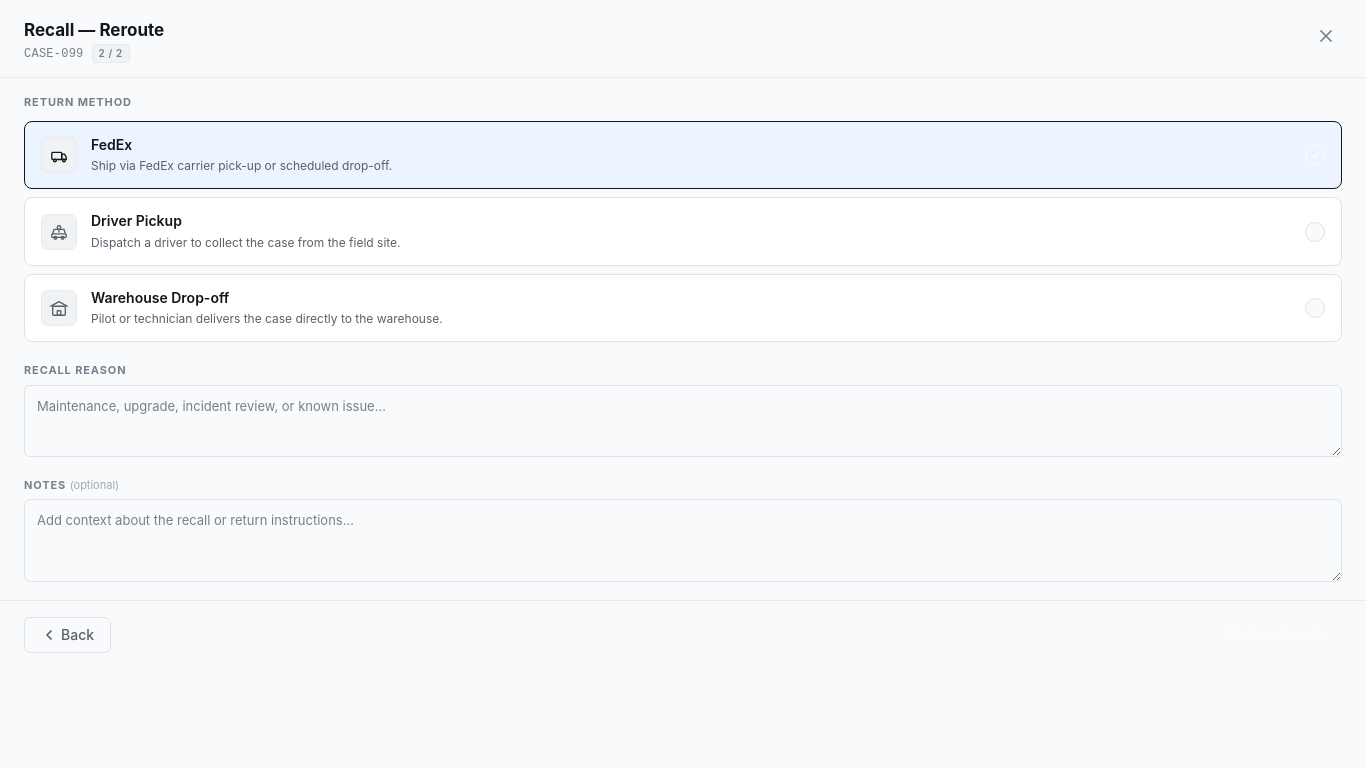
RecallModalStep2Reroute — Step 2 (Reroute) › return method selection › selecting Driver Pickup deselects FedEx
Click the radio button with test id "recall-method-radio-driver_pickup" at (59, 232), box [41,212,1325,250]
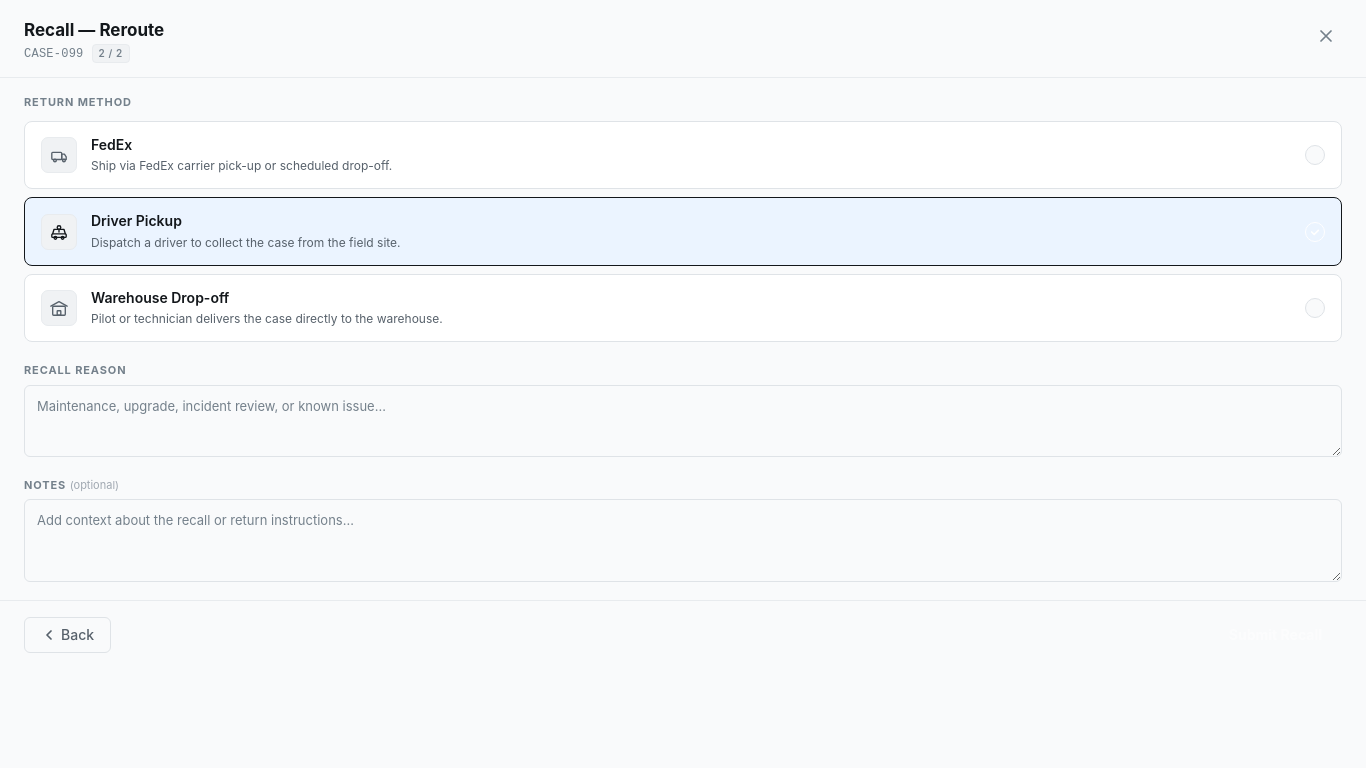
Result: the radio button with test id "recall-method-radio-fedex" is not checked at [41,136,1325,173]
